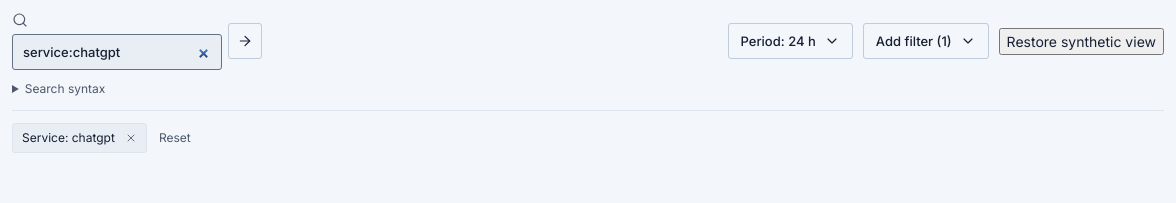
Scenario: immediately clears an invalid draft and its applied filters without requiring Enter
Click the search field.
click(117, 52)  # box [12,34,222,70]
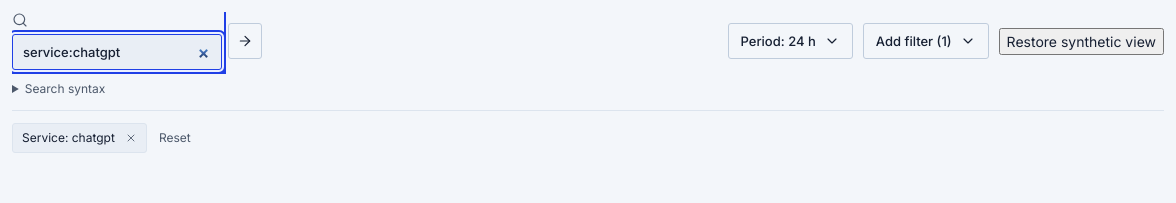
Type keys "{Control>}a{/Control}"
Type keys "service:["
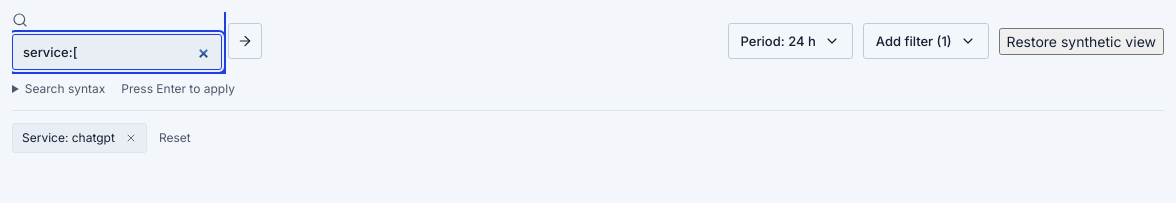
Press Enter
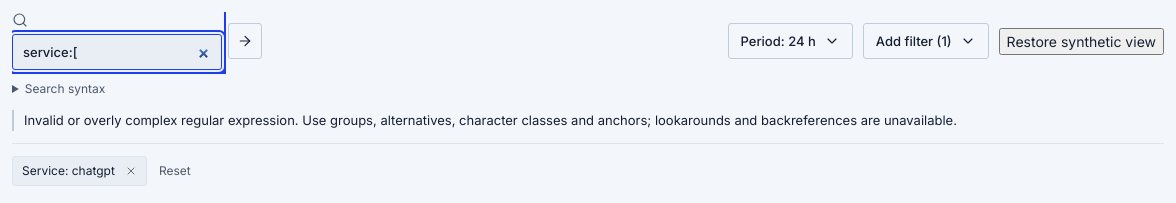
Now the message is shown, box [12,110,1164,131]
Clear the search field at (117, 52), box [12,34,222,70]
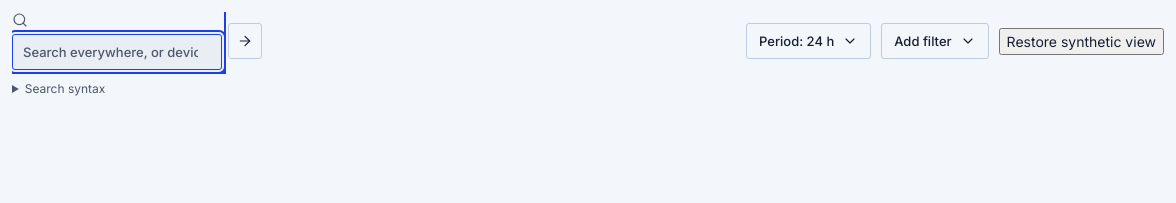
Now the message is gone
